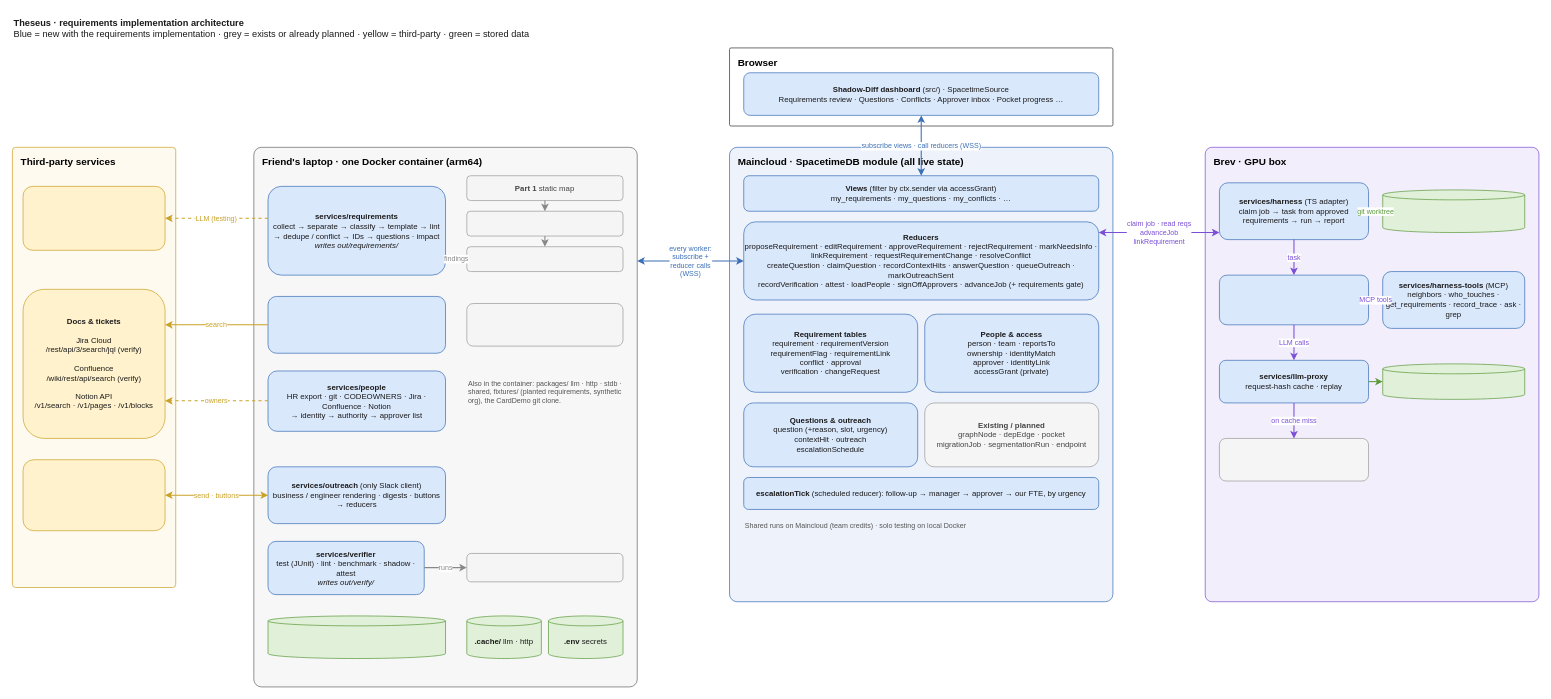
The diagram is 1551 pixels wide and 699 high, and some of its shapes have lost their labels. Each missing label, with the centre of its shape:
/cache/llm: point 1453,381
/work/<jobId> repo worktree + Java: point 1453,211
Java runner: point 544,567
Nemotron on NIM / vLLM localhost:8000/v1: point 1294,459
NVIDIA hosted API /v1/chat/completions (testing; shared runs use the Brev proxy): point 93,218
OpenHands (headless) file · shell · edit tools · JDK: point 1294,299
out/ pass1 · runtime · part2 · requirements/ · people/ · verify/: point 356,637
Part 2 reader → findings + questions: point 544,259
Router + traffic generator proxies to legacy shim (GnuCOBOL) and Java runner: point 544,324
Runtime witness: point 544,223
services/context search(question) → {source, url, quote, score} + local git log: point 356,324
Slack Socket Mode WS chat.postMessage · chat.update users.lookupByEmail: point 93,495
